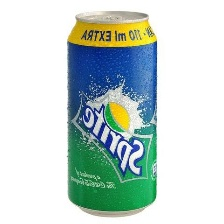can: (64, 8, 163, 220)
